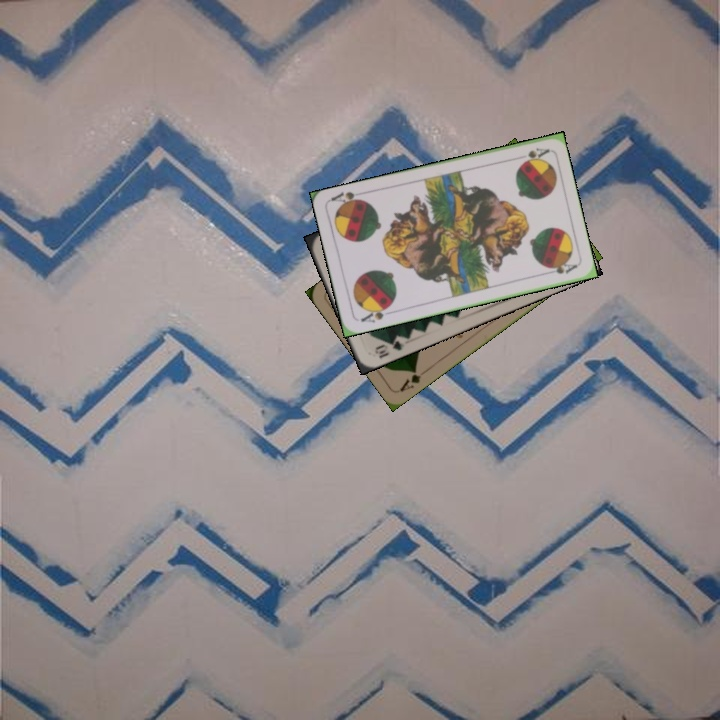G10: (371, 332, 407, 361)
GA: (396, 365, 431, 395)
SA: (357, 301, 394, 325), (511, 143, 551, 165)
